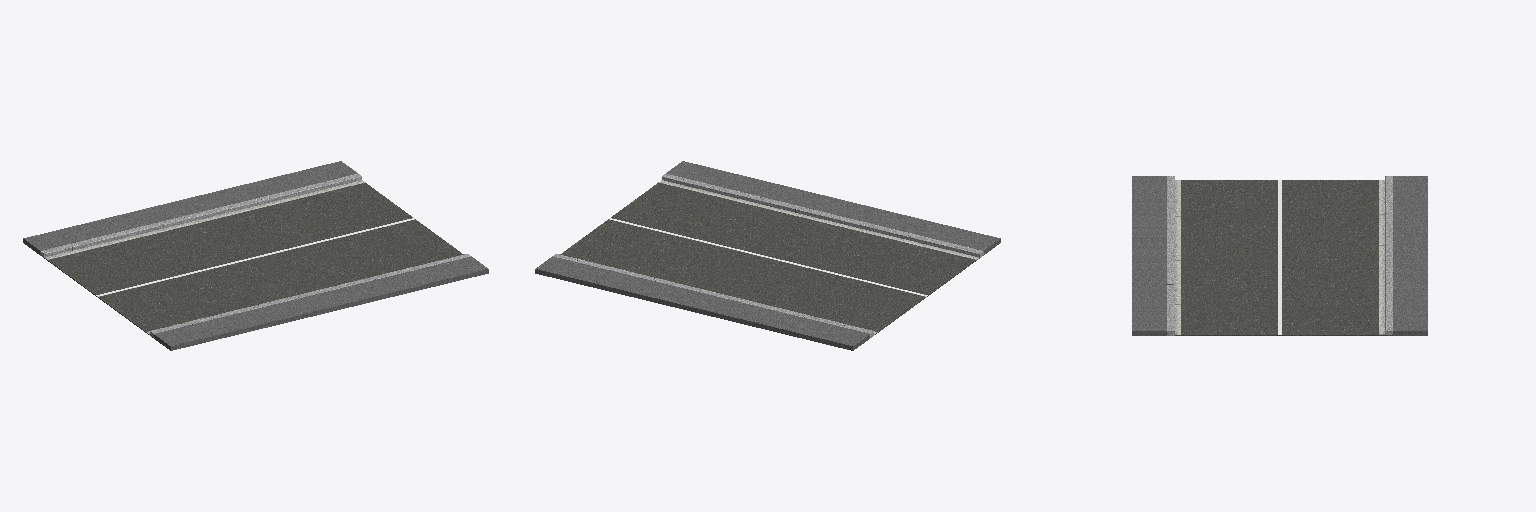
3 renders of one model, left to right at view 1: azimuth 30°, elevation 25°; view 2: azimuth 150°, elevation 25°; view 3: azimuth 270°, elevation 25°, orthographic.
Parts seen in each view (by area): view 1: roadDroit2VoiesAvecTrottoirs_Plane.002; view 2: roadDroit2VoiesAvecTrottoirs_Plane.002; view 3: roadDroit2VoiesAvecTrottoirs_Plane.002.
Boxes of the visible parts, x1=… form: roadDroit2VoiesAvecTrottoirs_Plane.002: x1=23, y1=161, x2=488, y2=350; roadDroit2VoiesAvecTrottoirs_Plane.002: x1=535, y1=161, x2=1000, y2=350; roadDroit2VoiesAvecTrottoirs_Plane.002: x1=1132, y1=176, x2=1427, y2=335.
Bounding box in the file's own units: 1300 × 18 × 1045.
Materials: 12 (3 with a texture image).